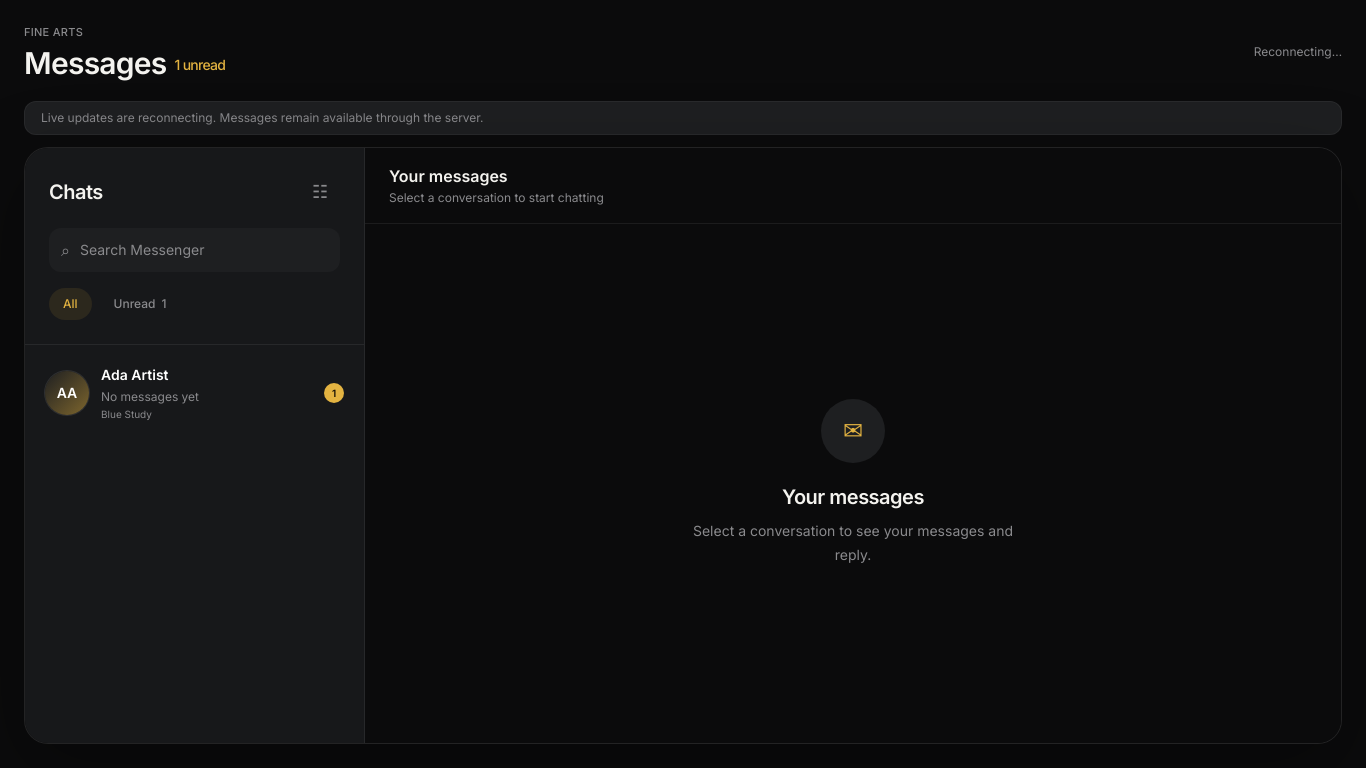
it: Messages page › shows context and unread count, persists a message, and displays Sent until acknowledged
Expected: the text named "1 unread messages" is shown, [324, 383, 344, 403]
Click the button "AA Ada Artist No messages yet Blue Study 1".
click(194, 393)  # box [33, 352, 356, 434]
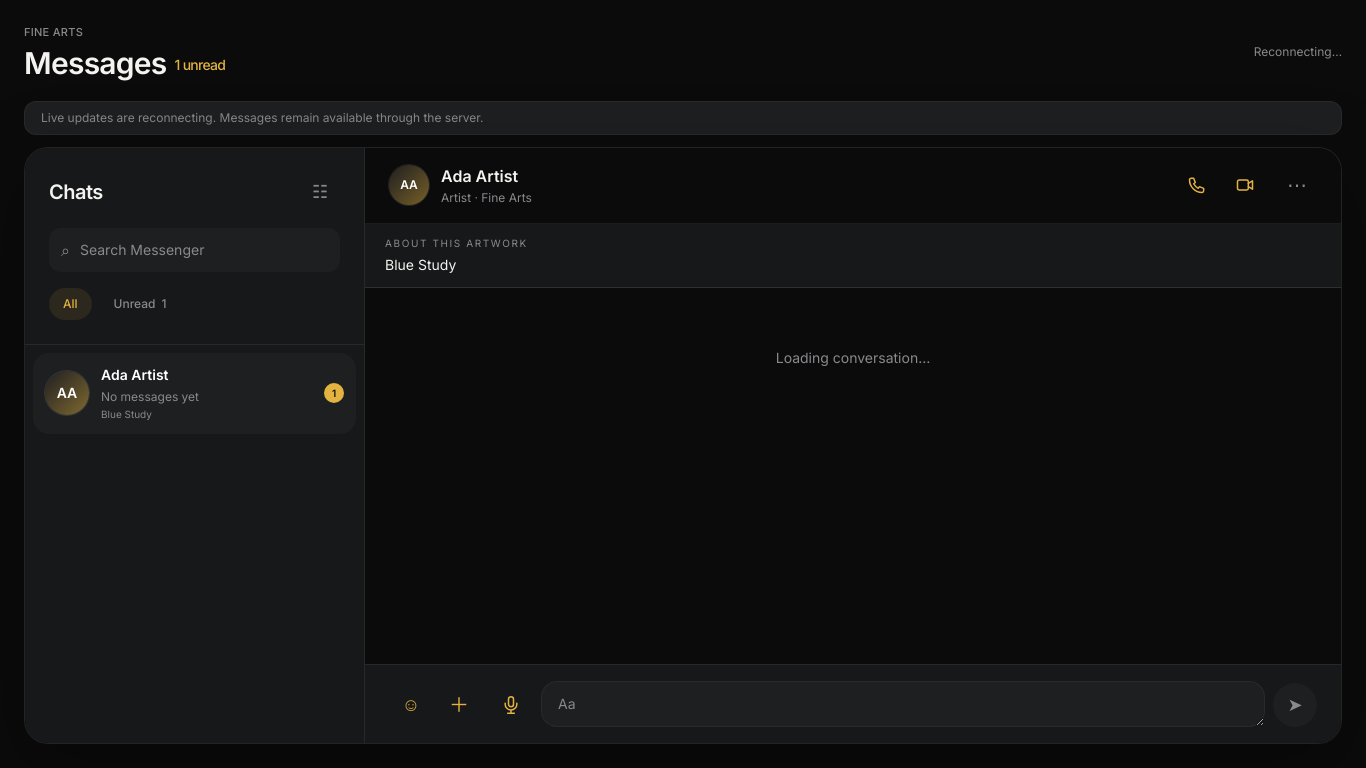
Expected: the text "About this artwork" is shown, [385, 236, 528, 248]
Type "Hello there" into the text box named "Write a message".
click(903, 704); type("Hello there")  # box [541, 681, 1265, 727]
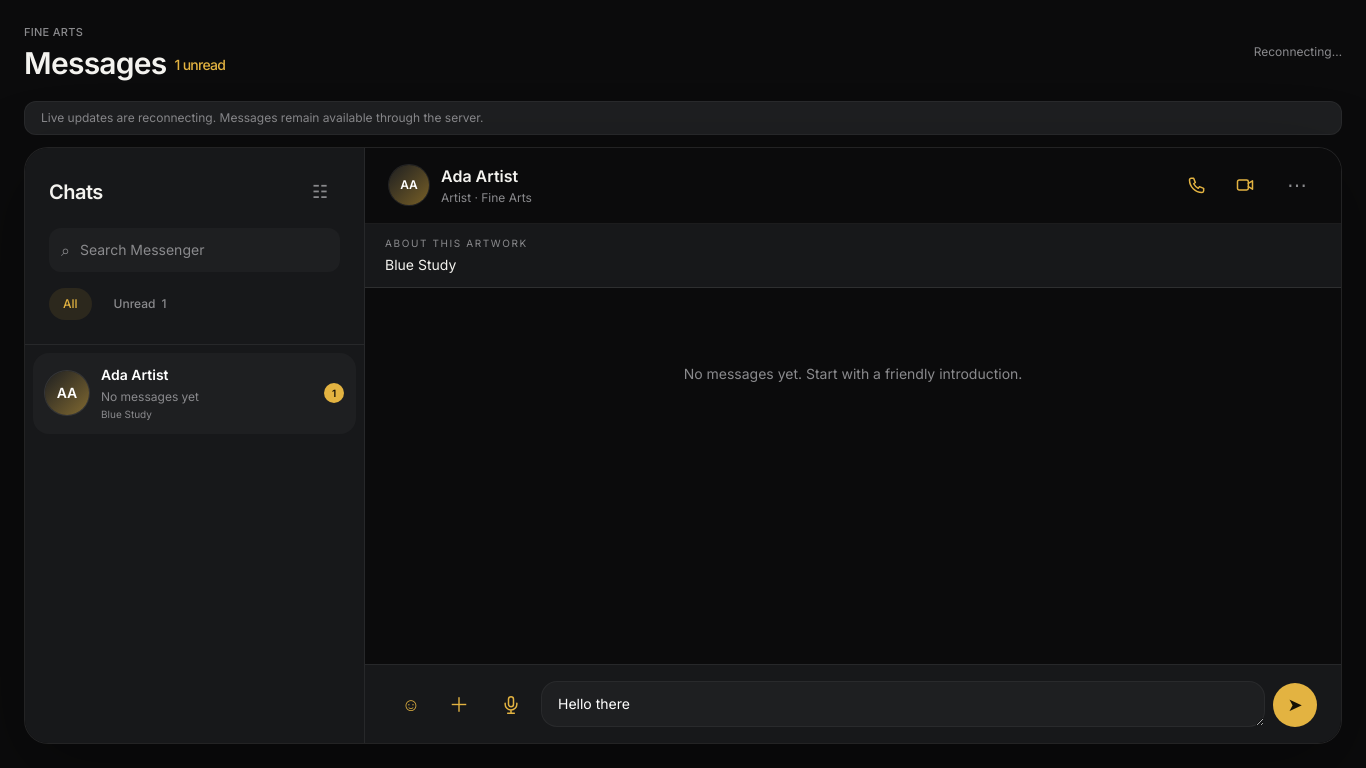
Click the button named "Send".
click(1295, 705)  # box [1273, 683, 1317, 727]
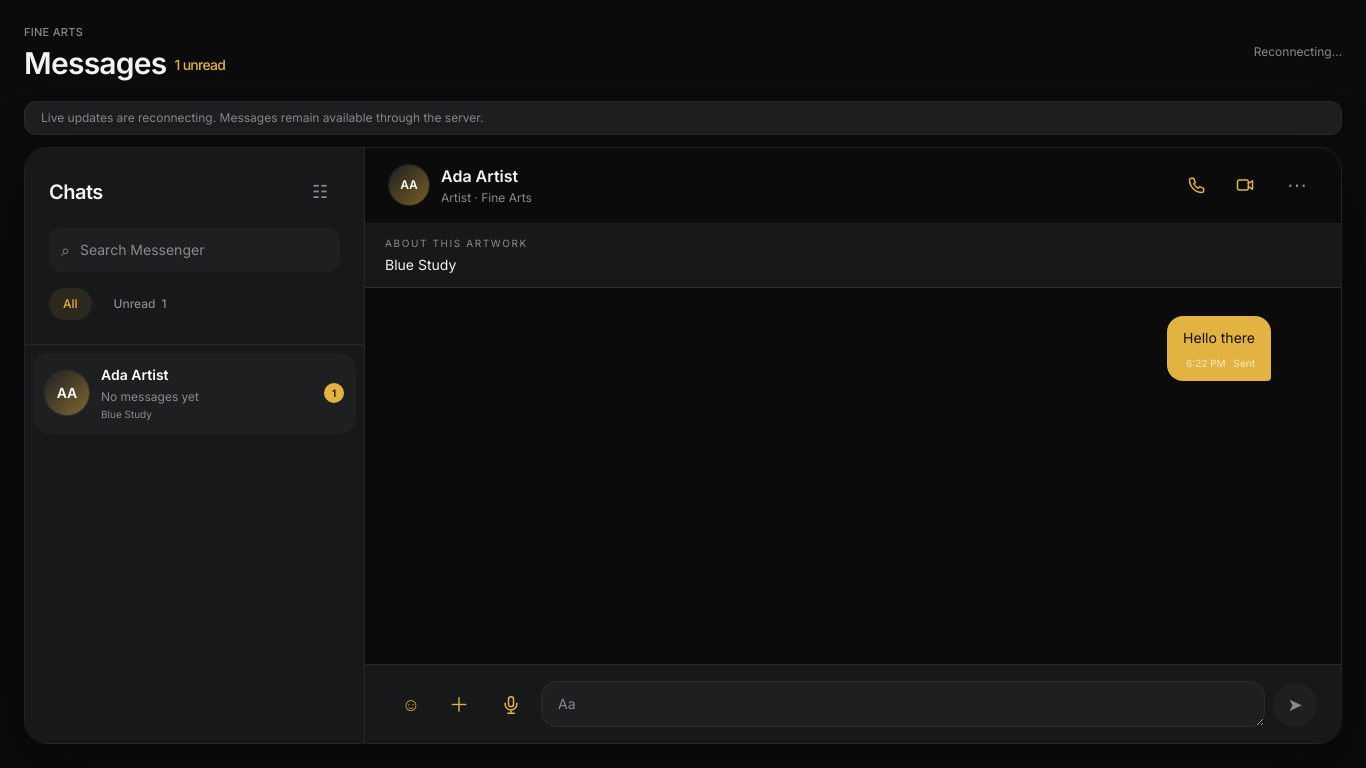
Expected: the text "Hello there" is shown, [1183, 326, 1255, 350]
Expected: the text named "Message status: Sent" is shown, [1234, 356, 1255, 370]
